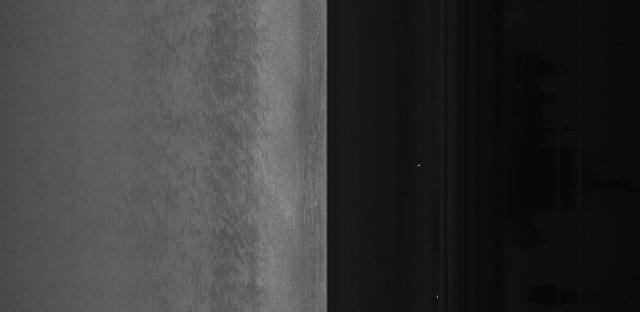silk_spot: (210, 53, 281, 268)
